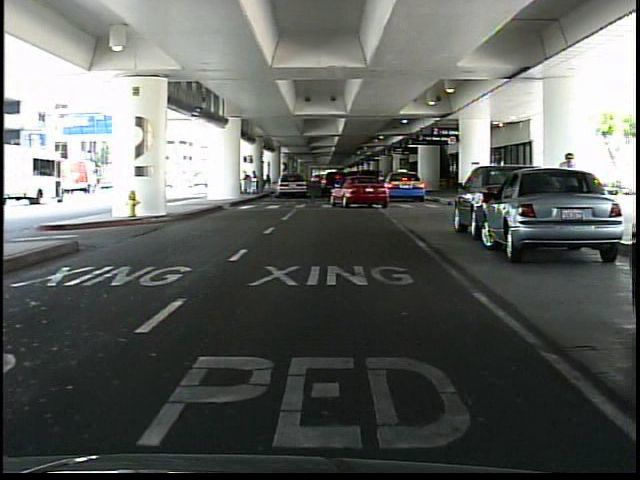person: (554, 148, 583, 233)
